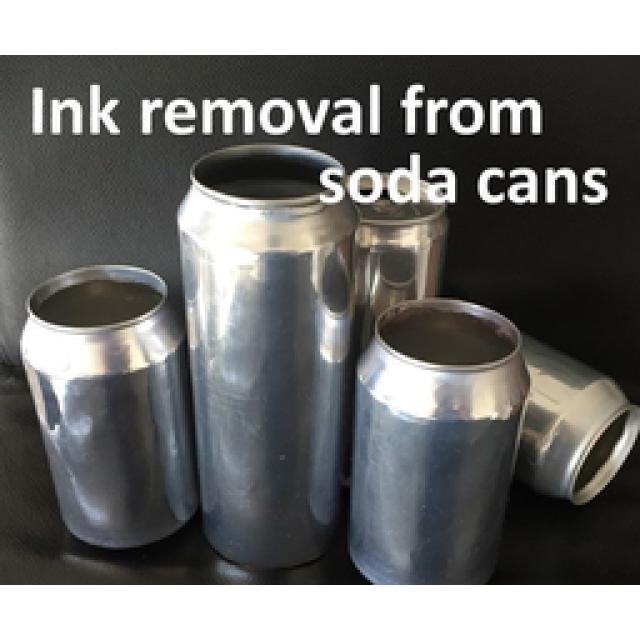aluminum_soda_cans: (193, 144, 350, 564), (28, 258, 198, 548), (358, 293, 512, 582)
